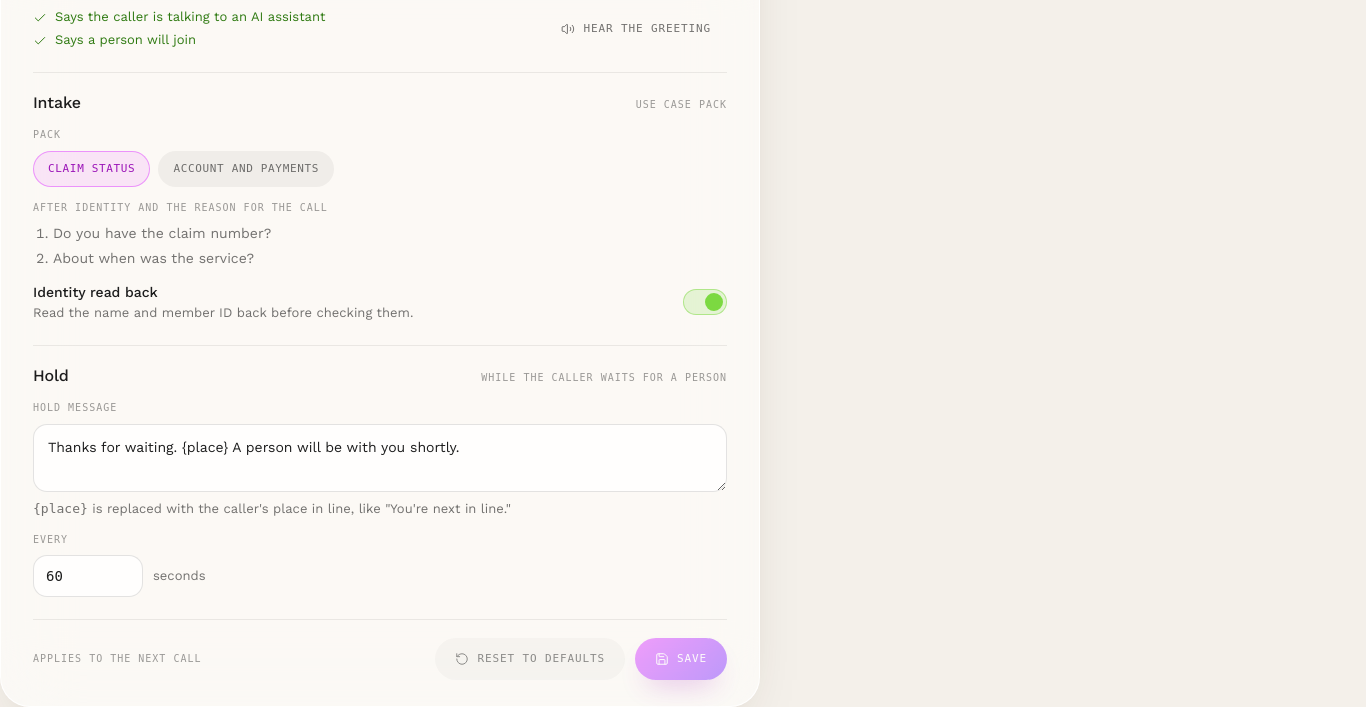
Settings page (P5-5, AP-20) › checks the hold interval range before saving
(page scrolled)
Replace the text in the number field labelled "Every" with "2": (88, 576) [33,555,143,597]
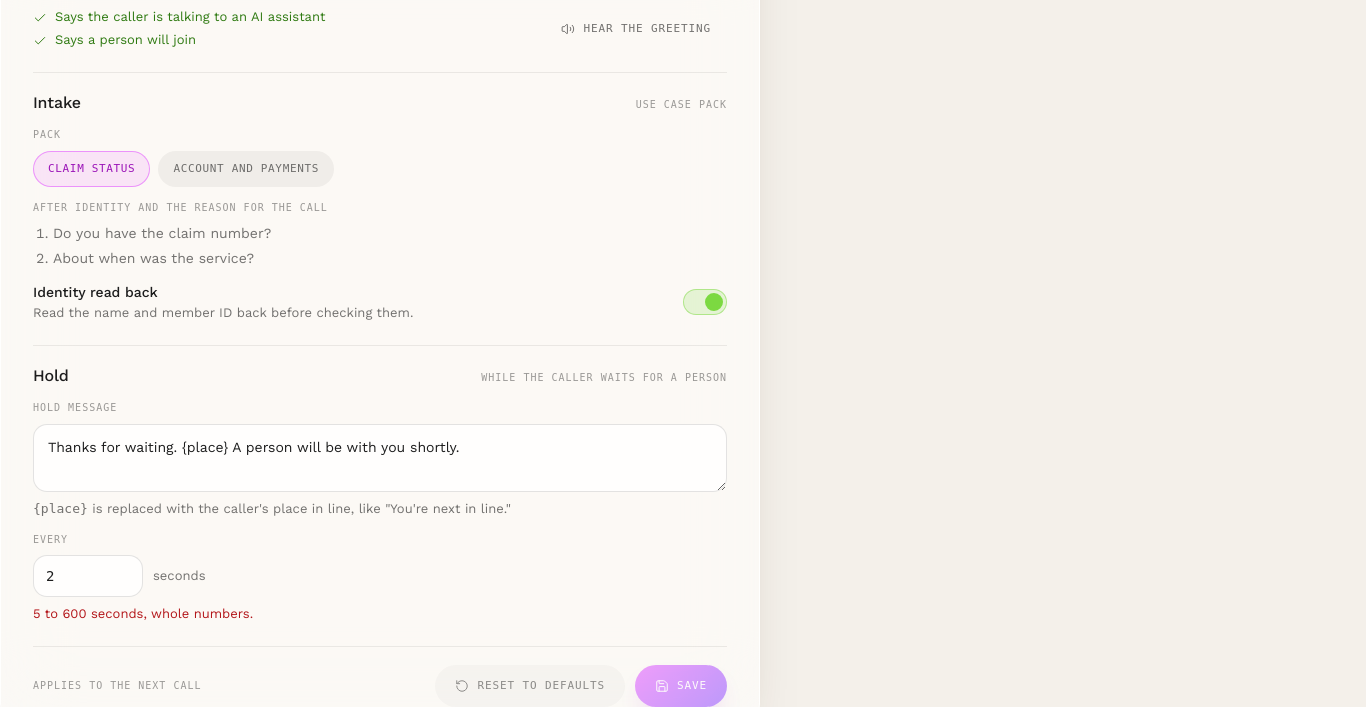
Expected: the button "Save" is disabled, [635,665,727,706]
Expected: the text "5 to 600 seconds, whole numbers." is shown, [33,606,253,621]
